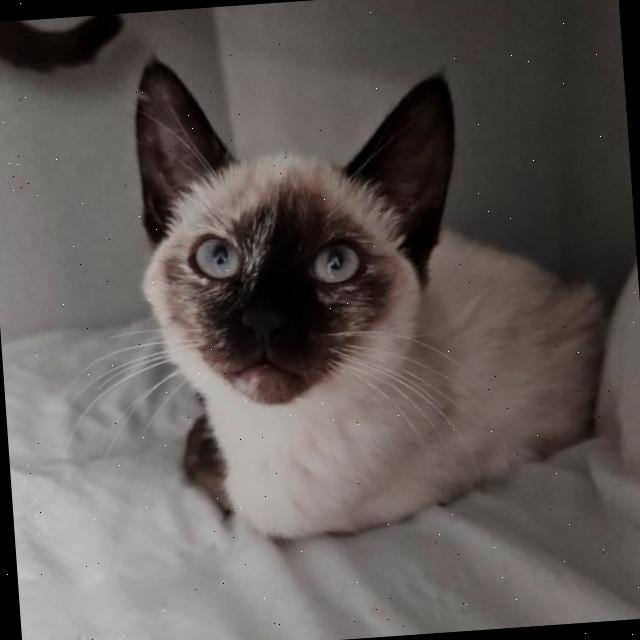siamese_cat: (88, 24, 514, 476)
